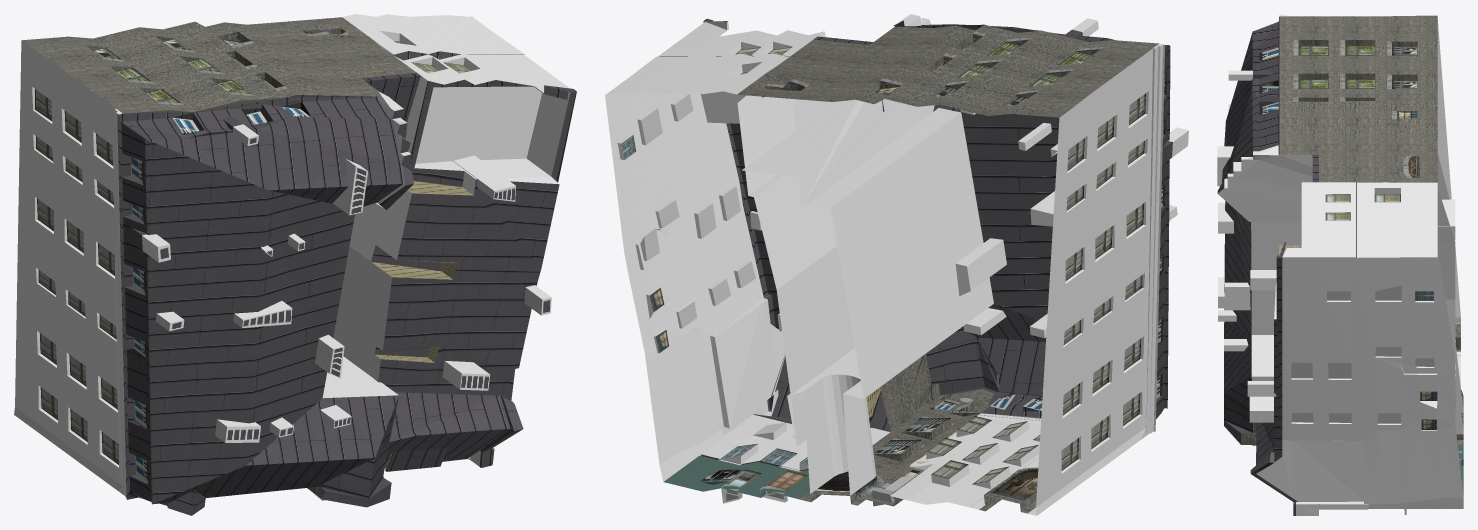
Rendered from Ryytli_13-origo.obj.
The picture shows the model from 3 angles, left to right: view 1: azimuth 30°, elevation 25°; view 2: azimuth 150°, elevation 25°; view 3: azimuth 270°, elevation 25°; orthographic projection. The views are drawn at different scales.
Parts seen in each view (by area): view 1: Ryytli_13; view 2: Ryytli_13; view 3: Ryytli_13.
Part boxes in pixels (left/top/right/bottom): Ryytli_13: left=14, top=14, right=576, bottom=515; Ryytli_13: left=605, top=14, right=1188, bottom=515; Ryytli_13: left=1217, top=14, right=1463, bottom=515.
Size of the model in its own units: 30.31 by 28.5 by 17.96.
